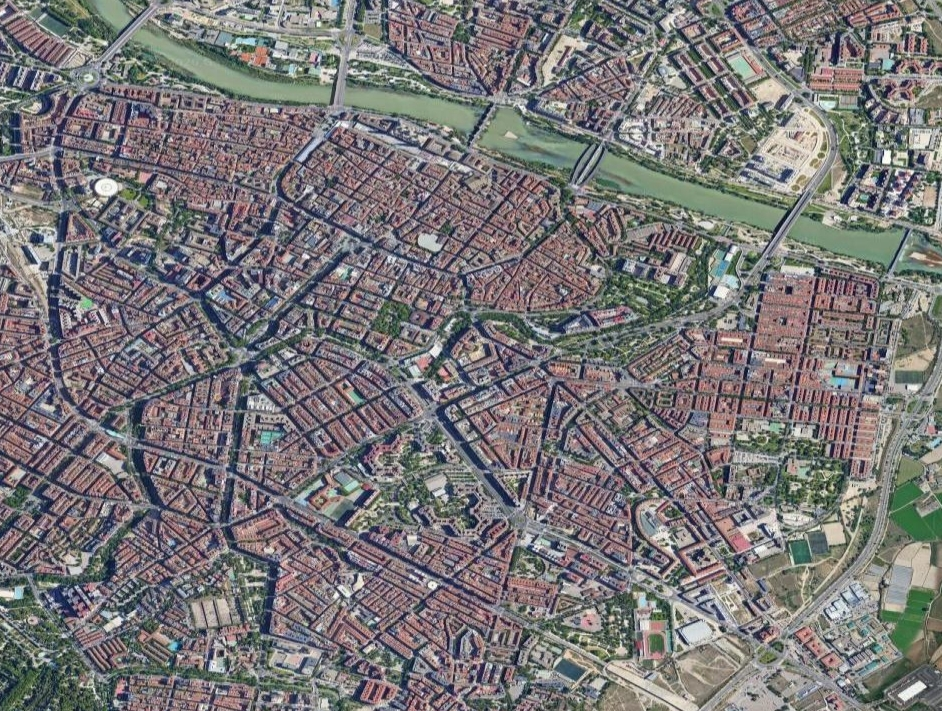bridge: (568, 138, 613, 184), (763, 192, 808, 238), (873, 224, 918, 270), (114, 4, 156, 46), (317, 68, 359, 110), (459, 101, 501, 143)
